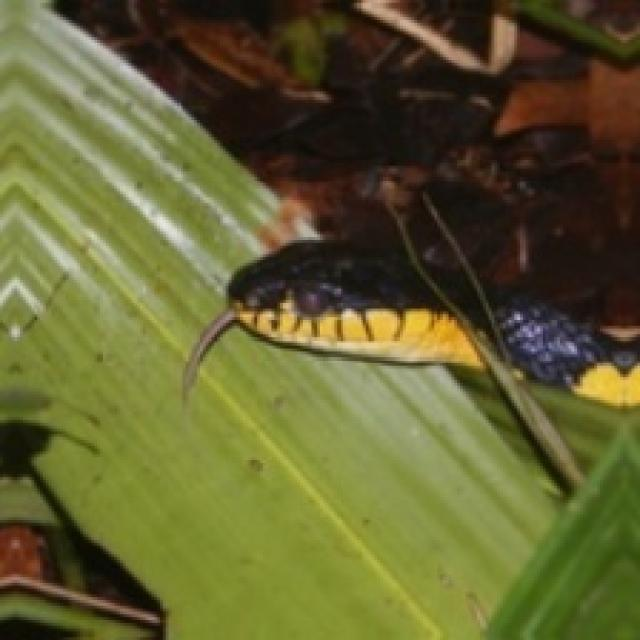mangrove cat snake: (185, 241, 482, 388), (485, 285, 640, 406), (422, 260, 490, 332)
